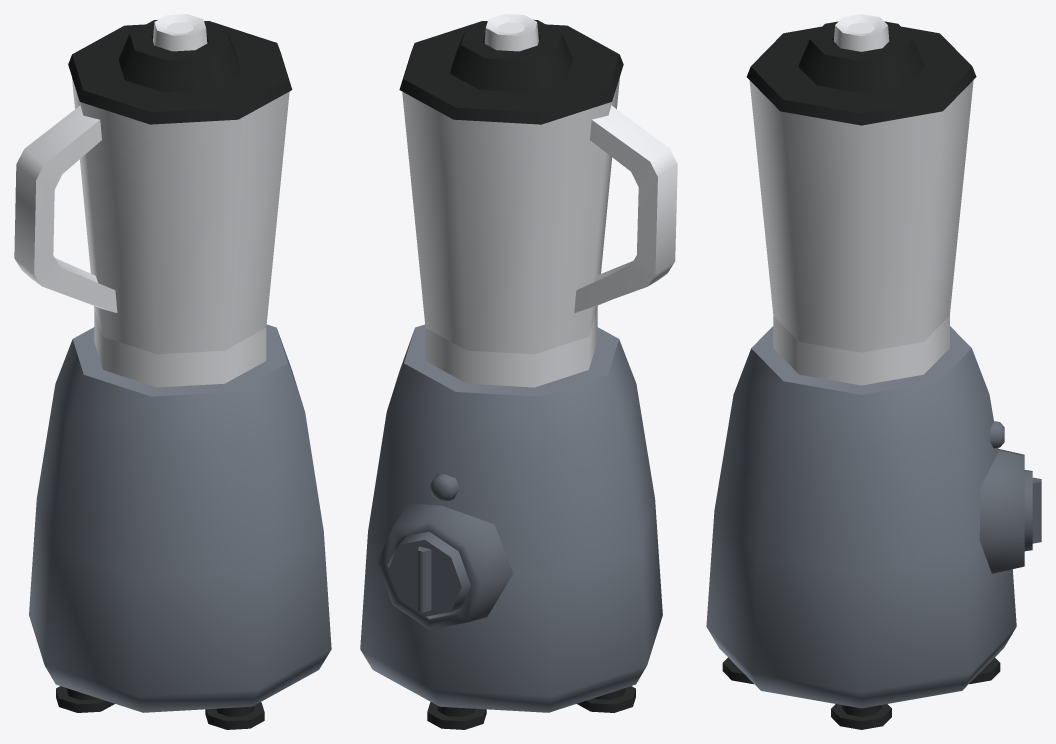
The model's file is Blender.glb.
3 views of the same model, side by side, from view 1: azimuth 30°, elevation 25°; view 2: azimuth 150°, elevation 25°; view 3: azimuth 270°, elevation 25° (orthographic).
Visible parts, largest first — view 1: appliance_blender_.001_Cylinder.128, appliance_blender_container_Cylinder.130, appliance_blender_lid_Cylinder.129; view 2: appliance_blender_.001_Cylinder.128, appliance_blender_container_Cylinder.130, appliance_blender_lid_Cylinder.129, appliance_blender_knob_Cylinder.131; view 3: appliance_blender_.001_Cylinder.128, appliance_blender_container_Cylinder.130, appliance_blender_lid_Cylinder.129, appliance_blender_knob_Cylinder.131.
Boxes of the visible parts, x1,y1,x2,y2 form: appliance_blender_.001_Cylinder.128: [29, 324, 331, 729]; appliance_blender_container_Cylinder.130: [14, 78, 289, 387]; appliance_blender_lid_Cylinder.129: [68, 14, 292, 124]; appliance_blender_.001_Cylinder.128: [360, 324, 662, 729]; appliance_blender_container_Cylinder.130: [402, 77, 677, 387]; appliance_blender_lid_Cylinder.129: [399, 14, 623, 124]; appliance_blender_knob_Cylinder.131: [388, 531, 470, 616]; appliance_blender_.001_Cylinder.128: [706, 326, 1024, 729]; appliance_blender_container_Cylinder.130: [749, 80, 973, 385]; appliance_blender_lid_Cylinder.129: [746, 14, 976, 125]; appliance_blender_knob_Cylinder.131: [1024, 470, 1041, 551].
Bounding box in the file's own units: 4.4 × 9.43 × 4.43.
Materials: 2 (2 with a texture image).
